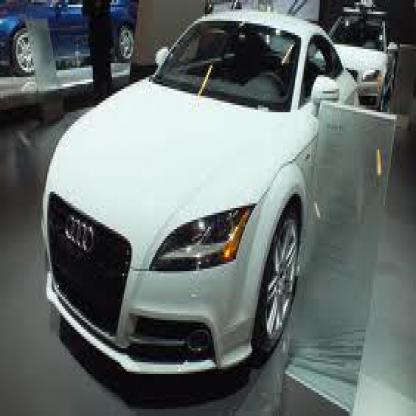Vehicle: (43, 14, 400, 393)
